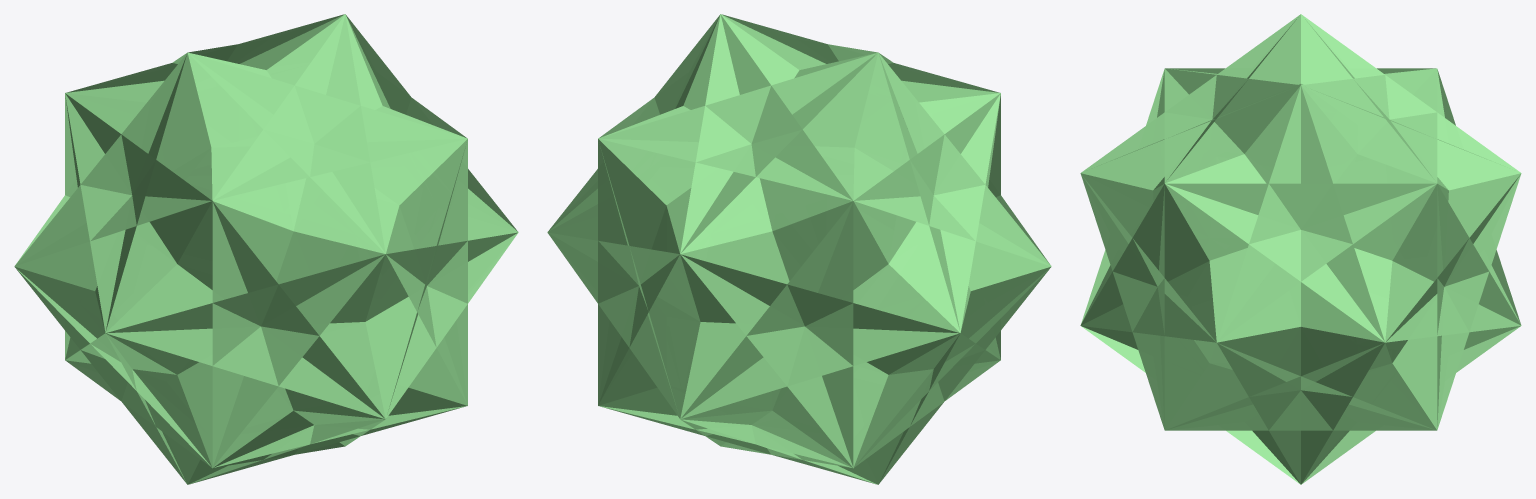
File: Rhombicosacron.obj
3 renders of one model, left to right at view 1: azimuth 30°, elevation 25°; view 2: azimuth 150°, elevation 25°; view 3: azimuth 270°, elevation 25°, orthographic. The views are drawn at different scales.
Bounding box in the file's own units: 3.24 × 3.24 × 3.24.
